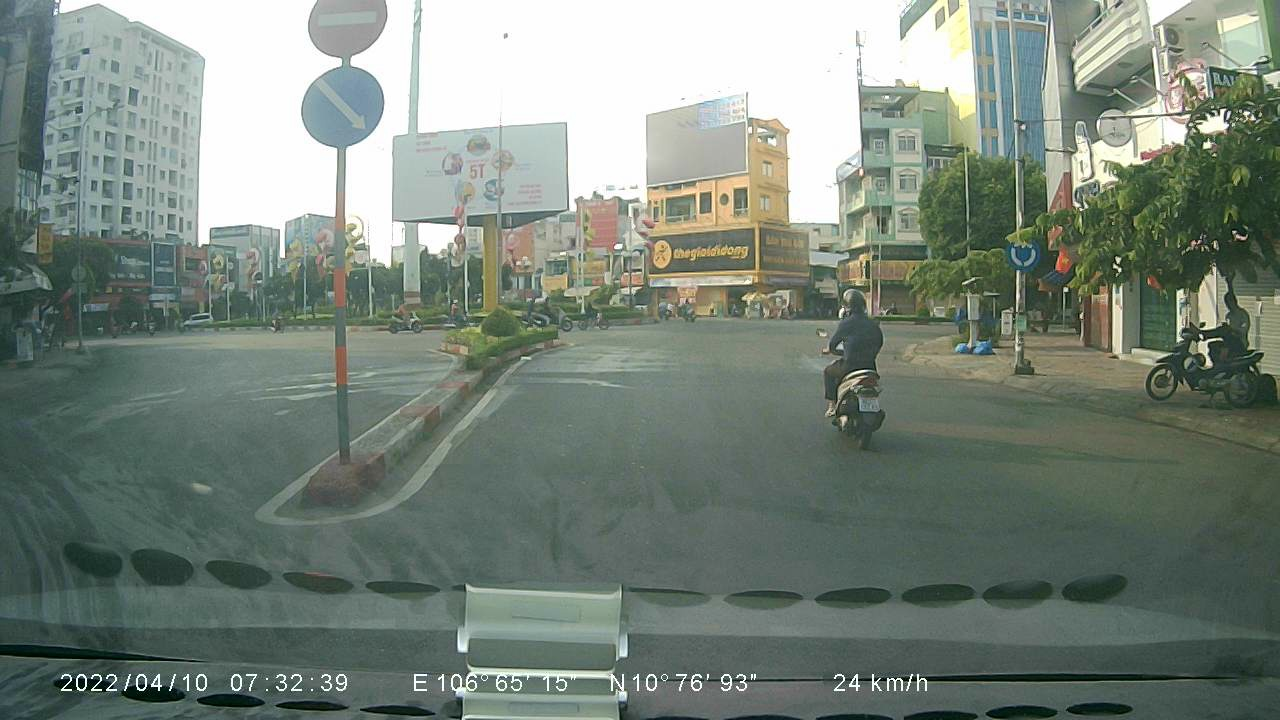Bien khac: (1006, 234, 1038, 273)
Cam di nguoc chieu: (304, 1, 396, 57)
Huong di phai re phai: (297, 64, 388, 151)
